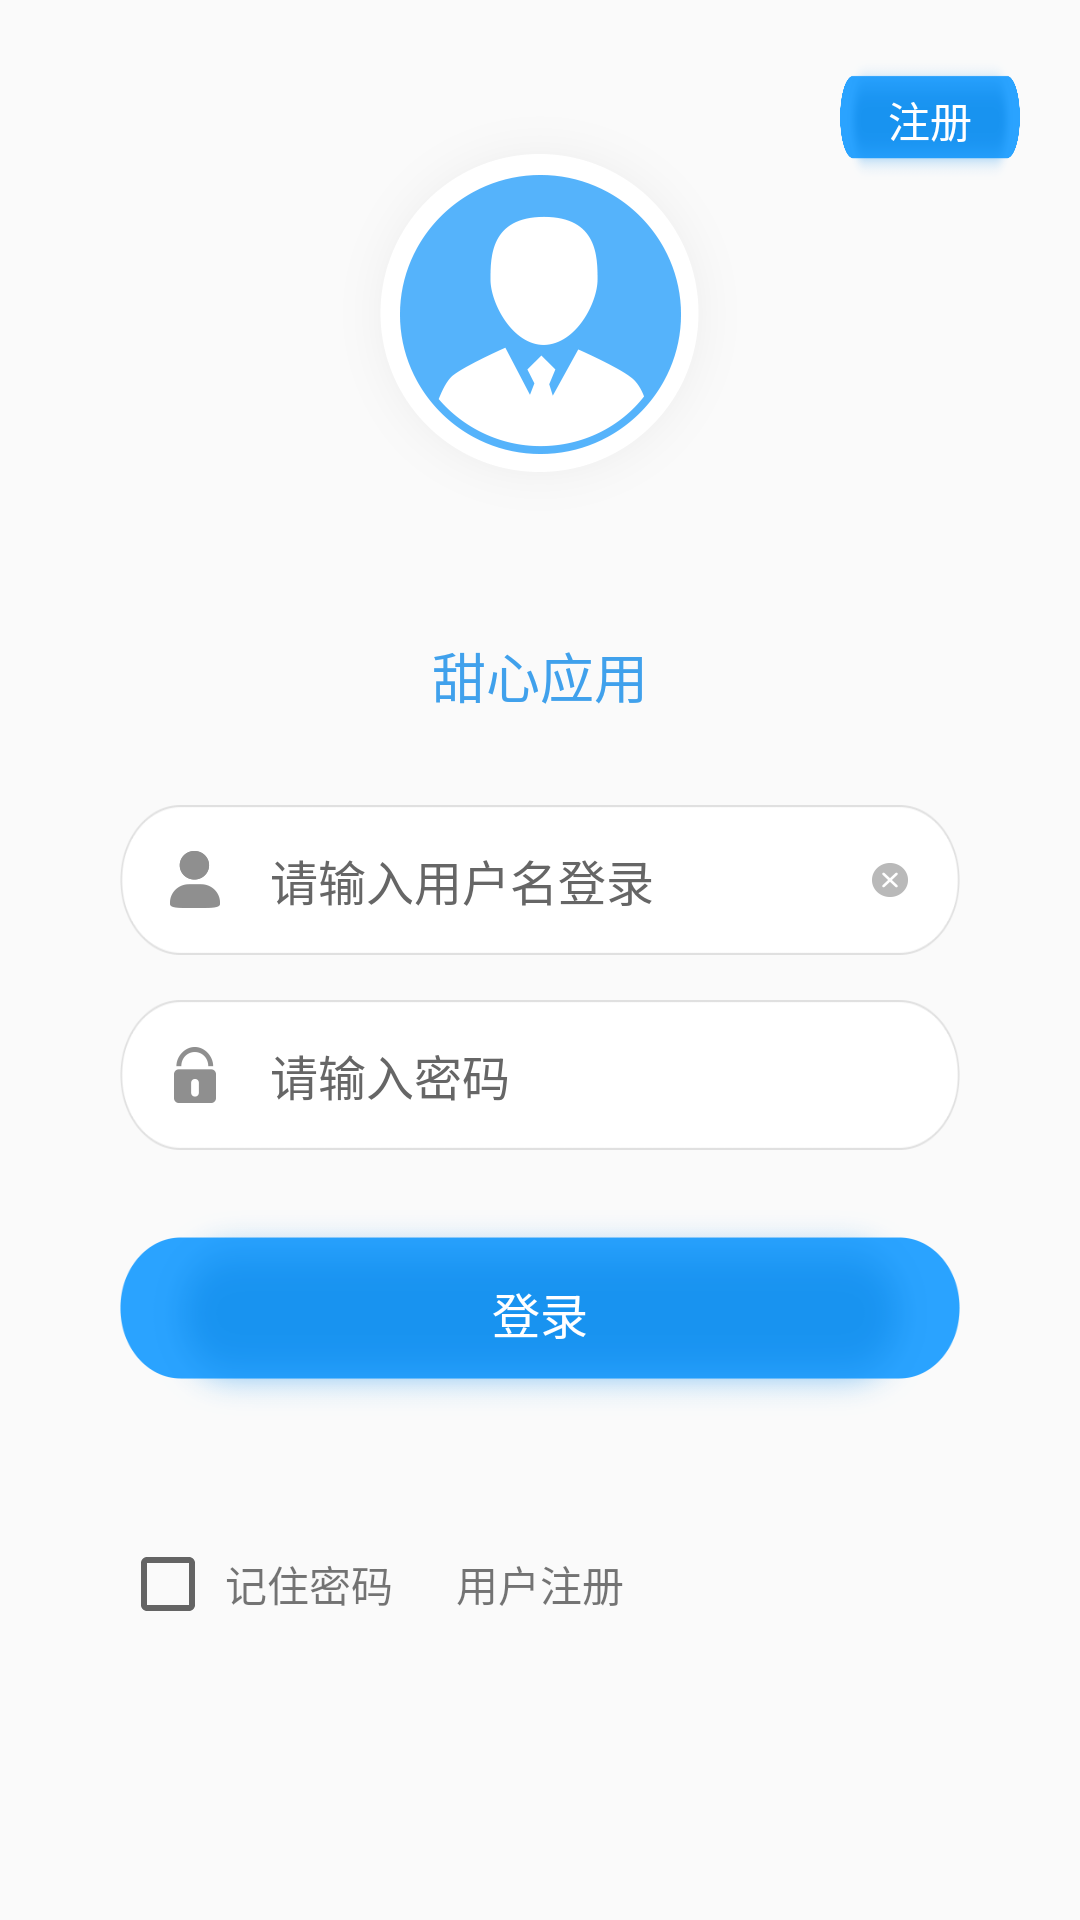

Where icons sit on this 1080px x 1920px app screen, as (x1, y1, x2, y2):
login clear: (872, 863, 908, 897)
login name: (170, 851, 220, 908)
login password: (174, 1047, 216, 1103)
